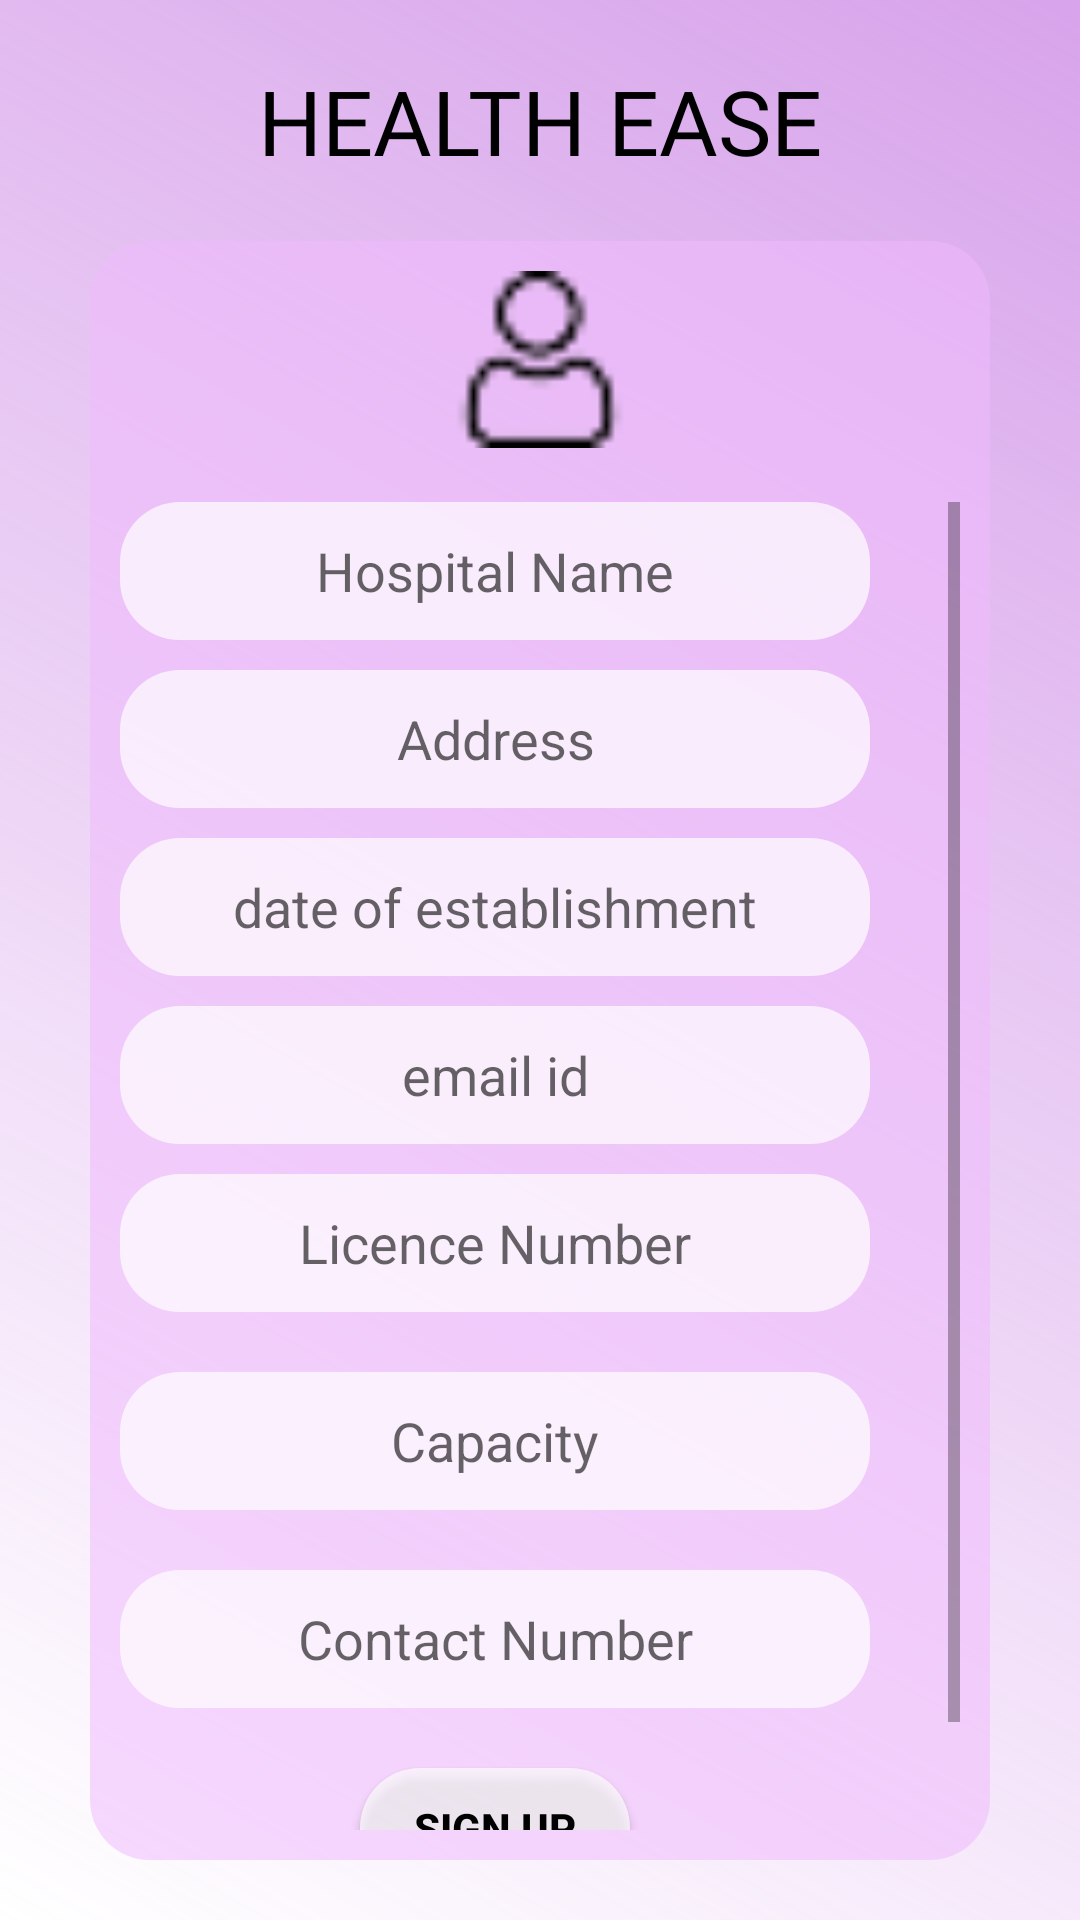

Locate icon controls on the screen. Image size 1080*1920, boxes as (x1, y1, x2, y2).
user: (461, 271, 618, 448)
